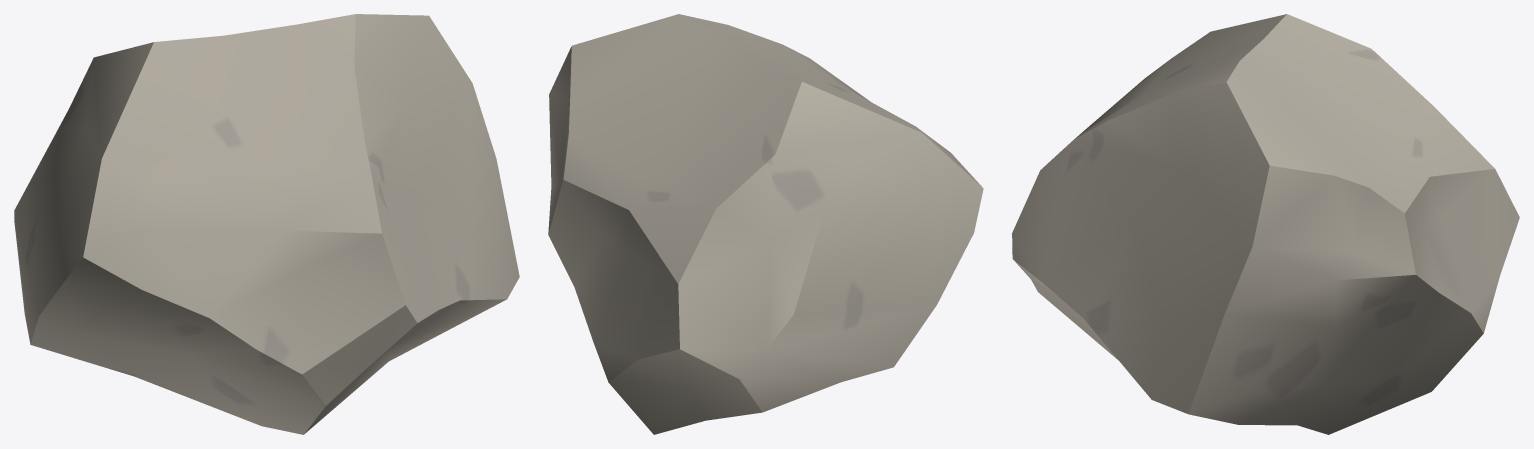
The model's file is Rock 6.fbx.
3 views of the same model, side by side, from view 1: azimuth 30°, elevation 25°; view 2: azimuth 150°, elevation 25°; view 3: azimuth 270°, elevation 25° (orthographic). The views are drawn at different scales.
Parts seen in each view (by area): view 1: Rock 6; view 2: Rock 6; view 3: Rock 6.
Part boxes in pixels (x1=…): Rock 6: x1=14, y1=14, x2=519, y2=434; Rock 6: x1=548, y1=14, x2=983, y2=434; Rock 6: x1=1012, y1=14, x2=1519, y2=434.
Size of the model in its own units: 229 by 190 by 235.
